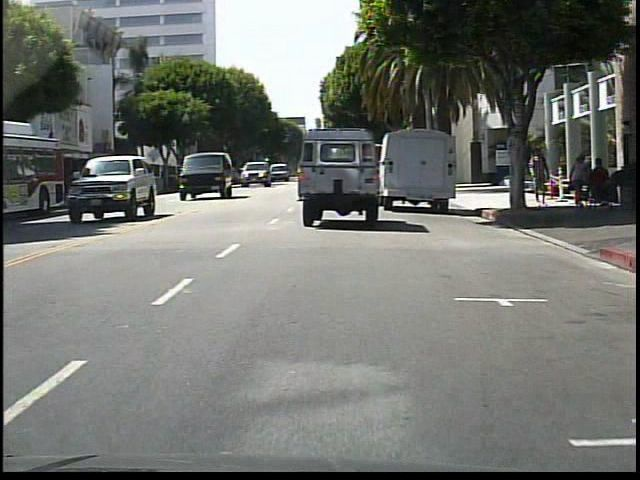person: (531, 145, 552, 207), (569, 151, 590, 207)
